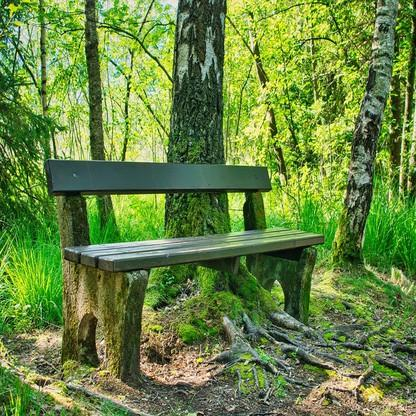obstacle: (27, 149, 328, 369)
